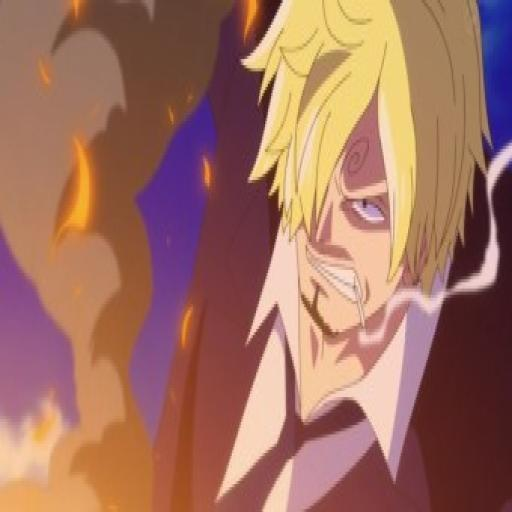sanji: (279, 0, 487, 344)
